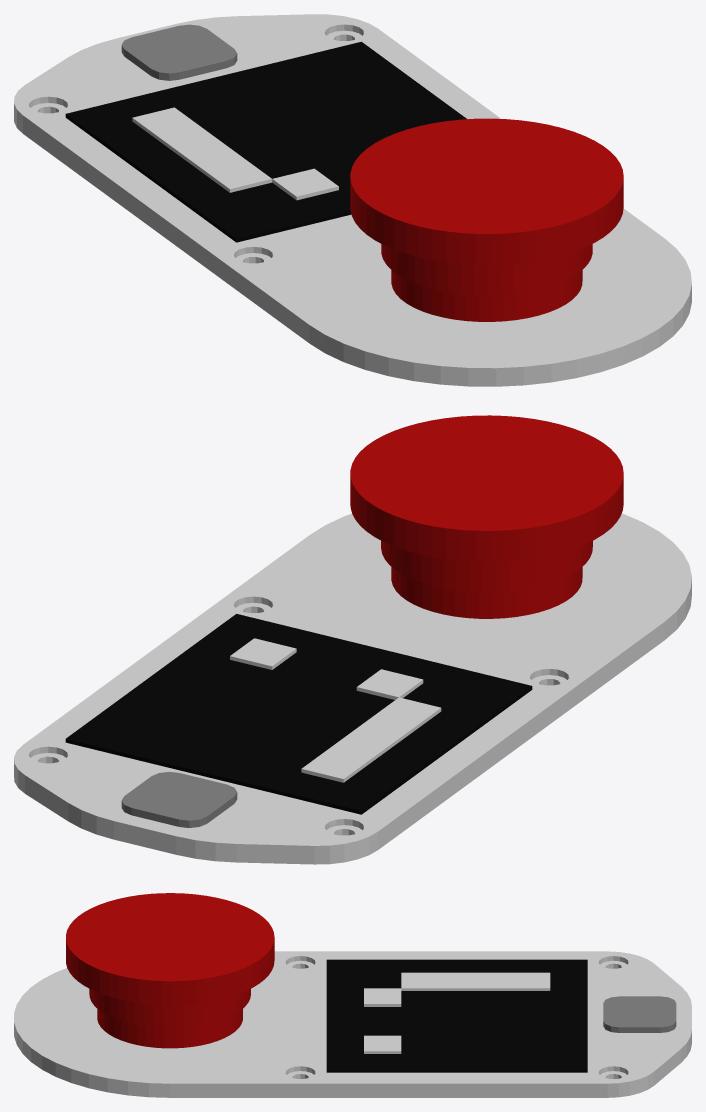
File: ERC2022_button_ID9.dae
The picture shows the model from 3 angles, top to bottom: view 1: azimuth 30°, elevation 25°; view 2: azimuth 150°, elevation 25°; view 3: azimuth 270°, elevation 25°; orthographic projection. The views are drawn at different scales.
Visible parts, largest first — view 1: ERC2022 grzyb white ID2, ERC2022 grzyb red, ERC2022 grzyb black, ERC2022 grzyb green; view 2: ERC2022 grzyb white ID2, ERC2022 grzyb black, ERC2022 grzyb red, ERC2022 grzyb green; view 3: ERC2022 grzyb white ID2, ERC2022 grzyb black, ERC2022 grzyb red, ERC2022 grzyb green.
Part boxes in pixels (box(x1,y1,x2,y2)): ERC2022 grzyb white ID2: box(14, 14, 691, 386); ERC2022 grzyb red: box(350, 118, 623, 321); ERC2022 grzyb black: box(65, 41, 466, 242); ERC2022 grzyb green: box(121, 24, 237, 80); ERC2022 grzyb white ID2: box(14, 513, 691, 864); ERC2022 grzyb black: box(65, 614, 532, 814); ERC2022 grzyb red: box(350, 415, 623, 618); ERC2022 grzyb green: box(121, 771, 237, 827); ERC2022 grzyb white ID2: box(14, 951, 691, 1097); ERC2022 grzyb black: box(326, 959, 587, 1072); ERC2022 grzyb red: box(66, 893, 274, 1048); ERC2022 grzyb green: box(603, 996, 676, 1032).
Bounding box in the file's own units: 60 × 130 × 20.
